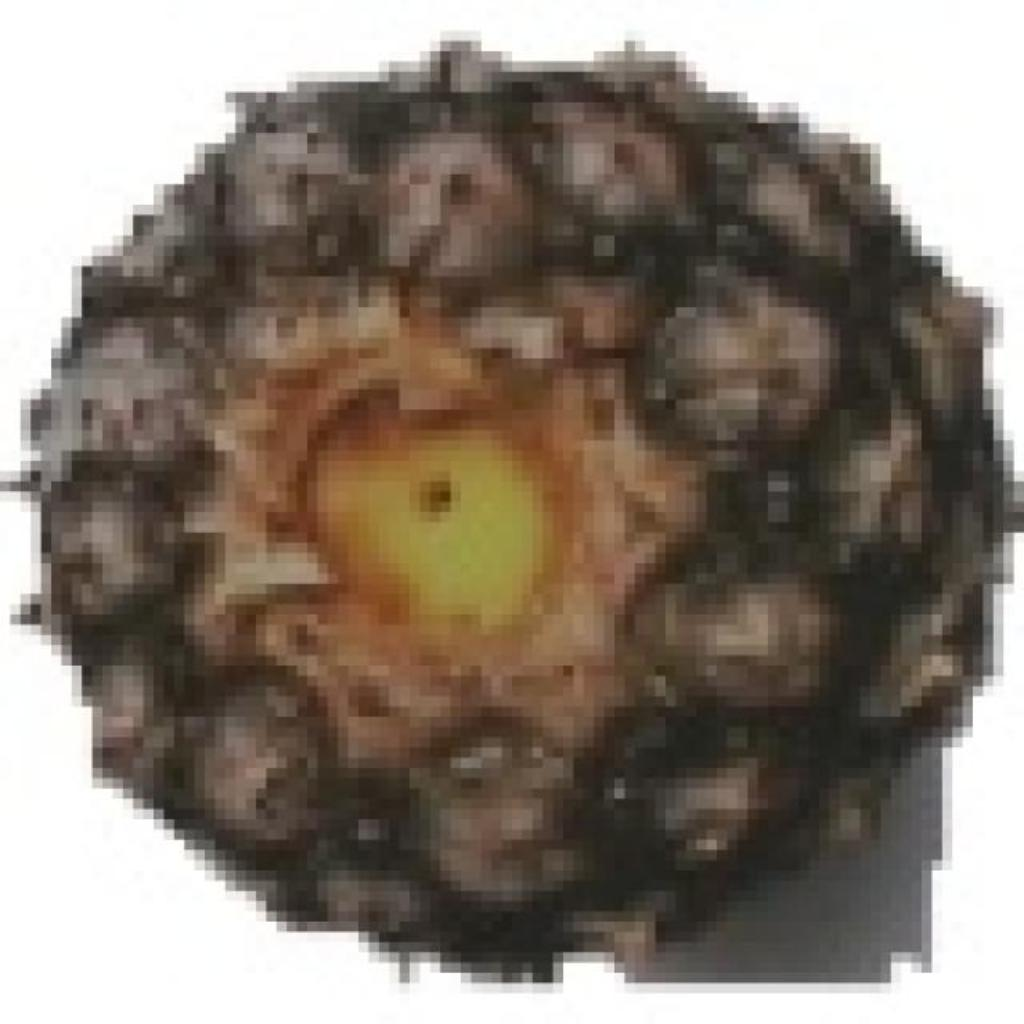pineapple: (20, 31, 983, 963)
